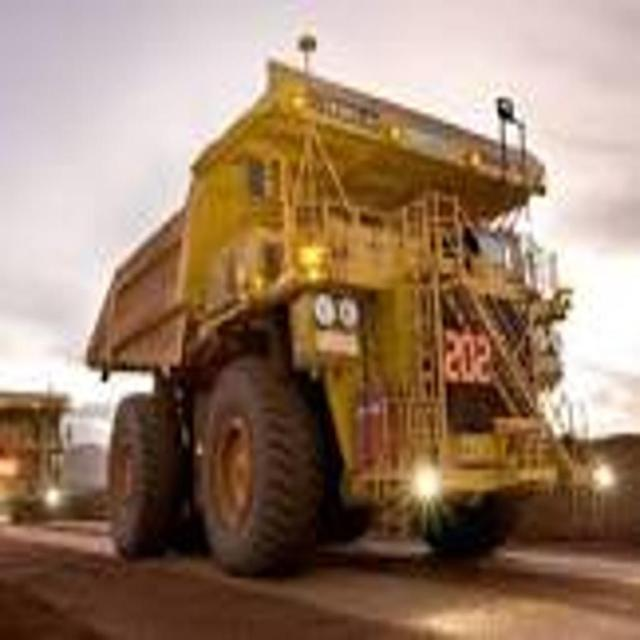dump_truck: (81, 27, 575, 578)
